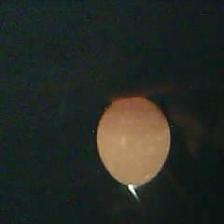infertile: (96, 96, 171, 187)
